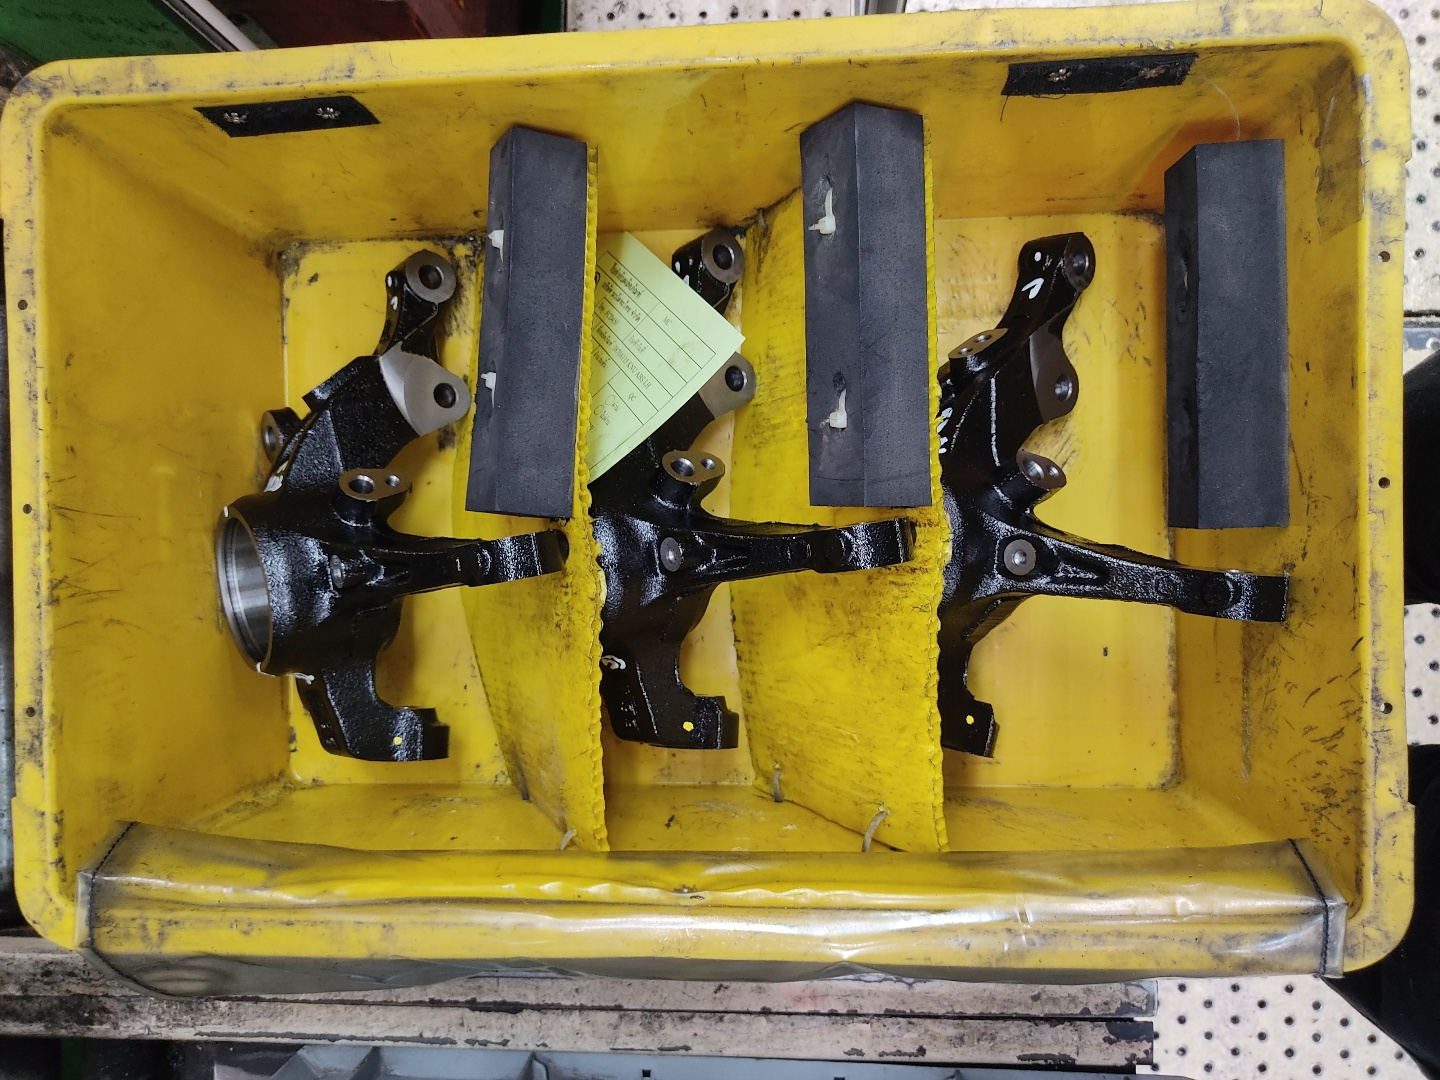abs-lh: (918, 221, 1296, 767), (207, 243, 581, 770), (581, 227, 921, 763)
